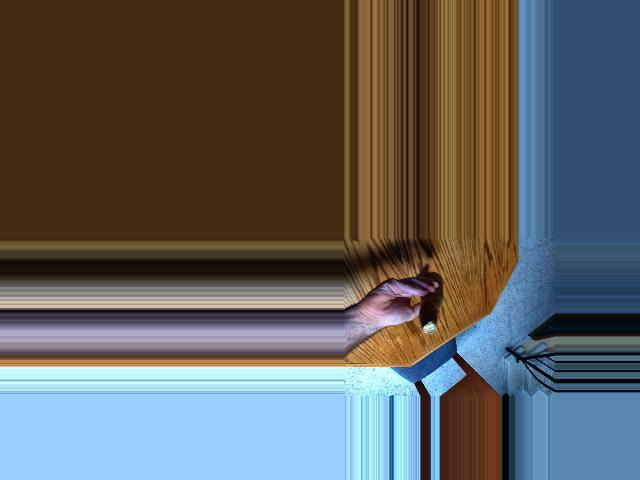sweet_potato: (412, 279, 446, 331)
